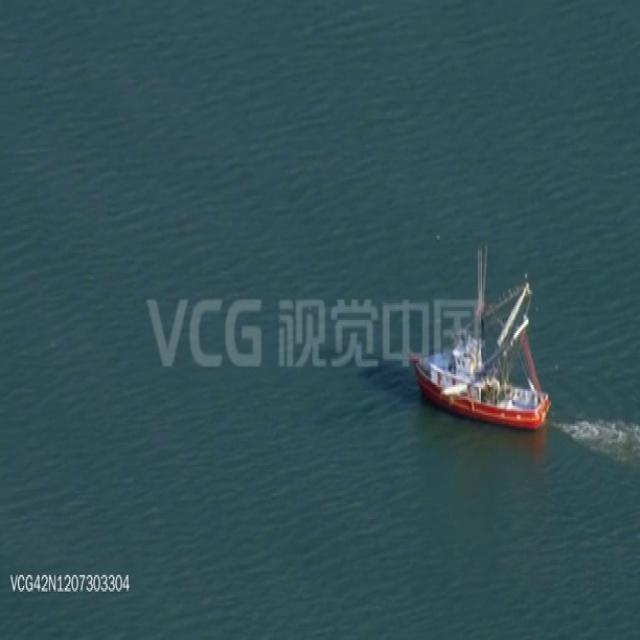houseboat: (412, 275, 545, 422)
